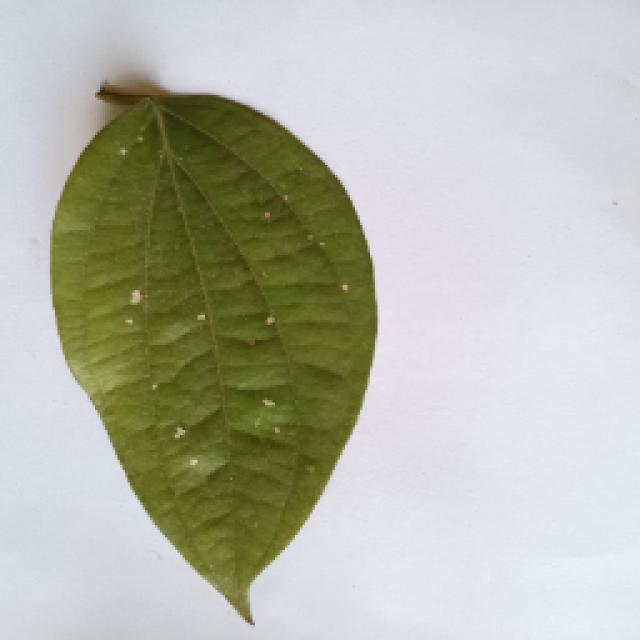pollu-disease: (43, 88, 385, 620)
